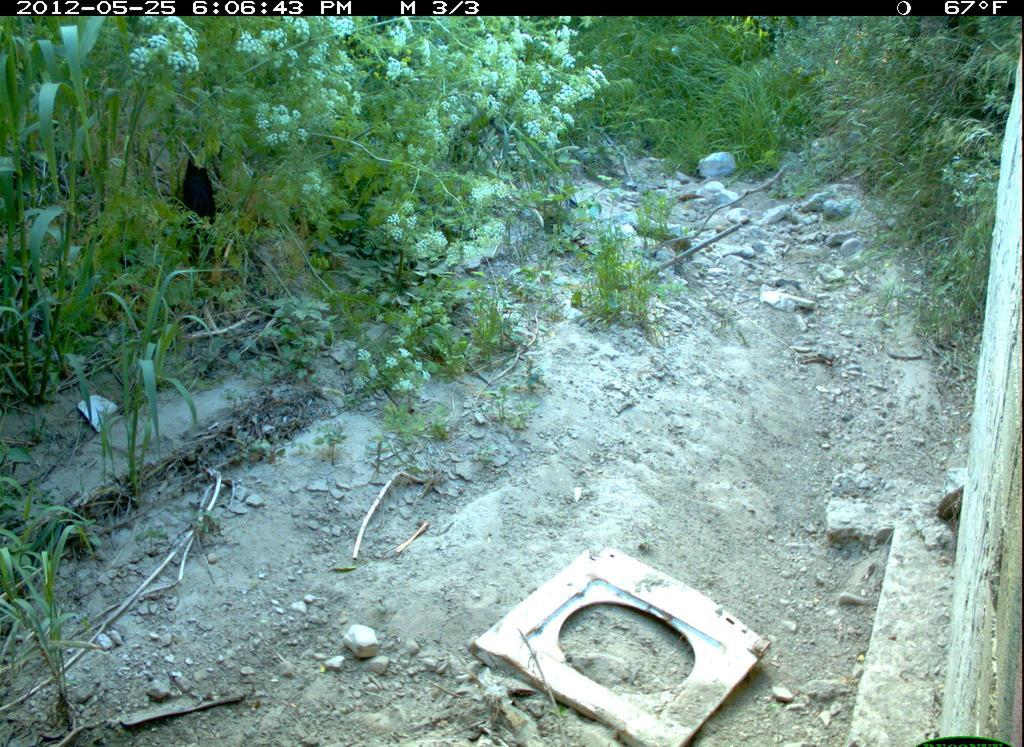cat: (168, 141, 241, 287)
